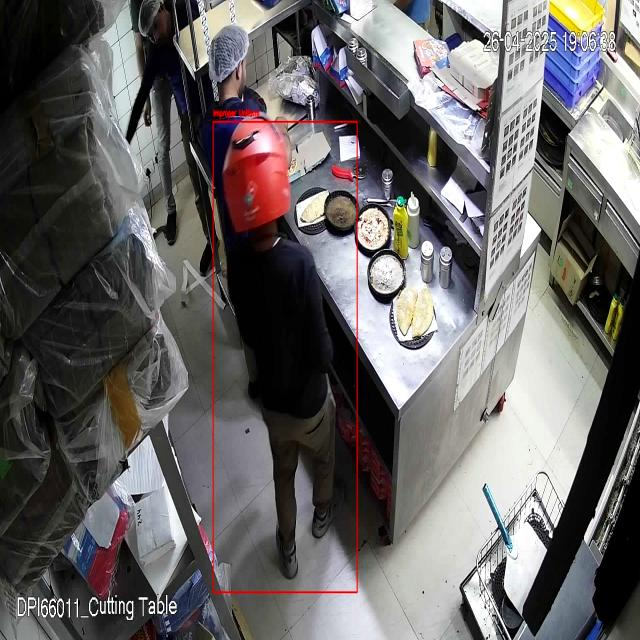helmet: (221, 112, 291, 251)
no_helmet: (208, 24, 251, 103)
